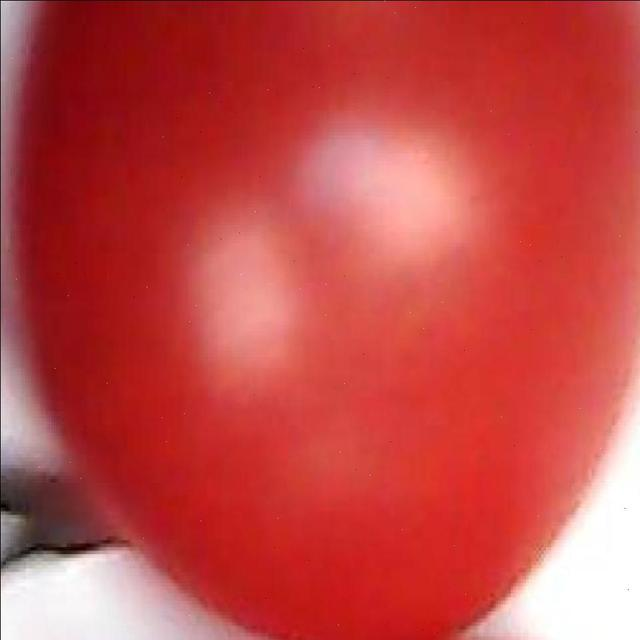Healthy Fruit: (20, 0, 427, 420)
